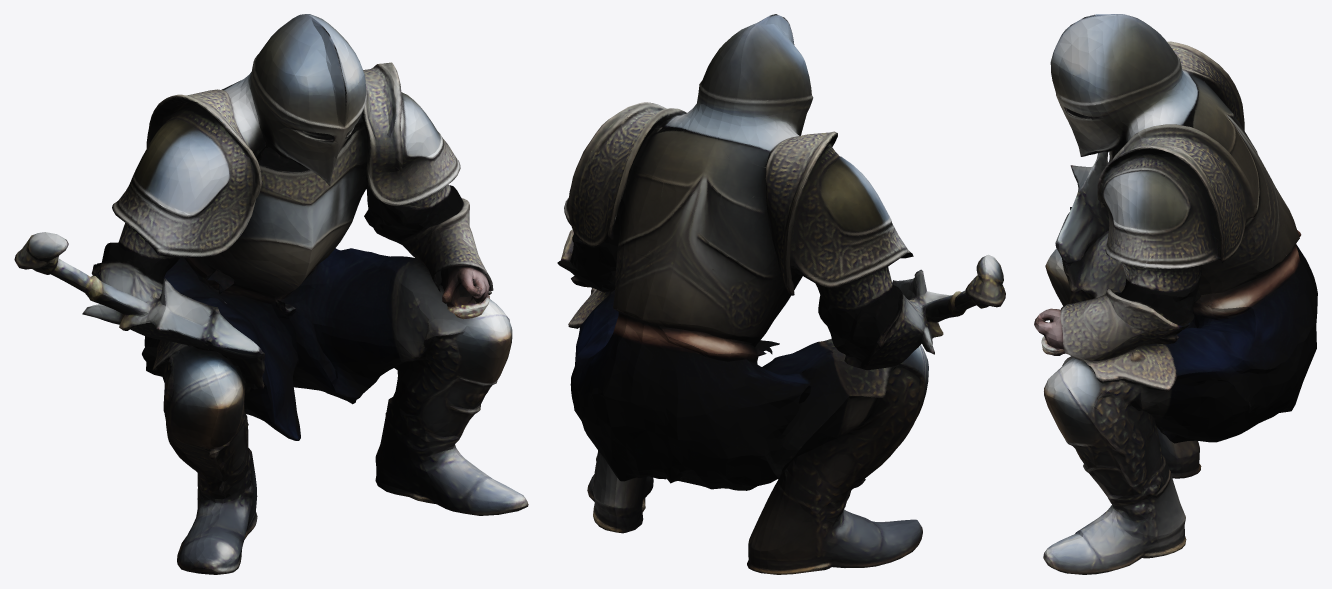
The model's file is knight.glb.
3 views of the same model, side by side, from view 1: azimuth 30°, elevation 25°; view 2: azimuth 150°, elevation 25°; view 3: azimuth 270°, elevation 25° (orthographic). The views are drawn at different scales.
Visible parts, largest first — view 1: world; view 2: world; view 3: world.
Part boxes in pixels (x1,y1,x2,y2): world: [14, 14, 528, 574]; world: [557, 14, 1005, 574]; world: [1034, 14, 1317, 574].
Bounding box in the file's own units: 0.9245 × 1 × 0.5381.
Materials: 1 (1 with a texture image).
